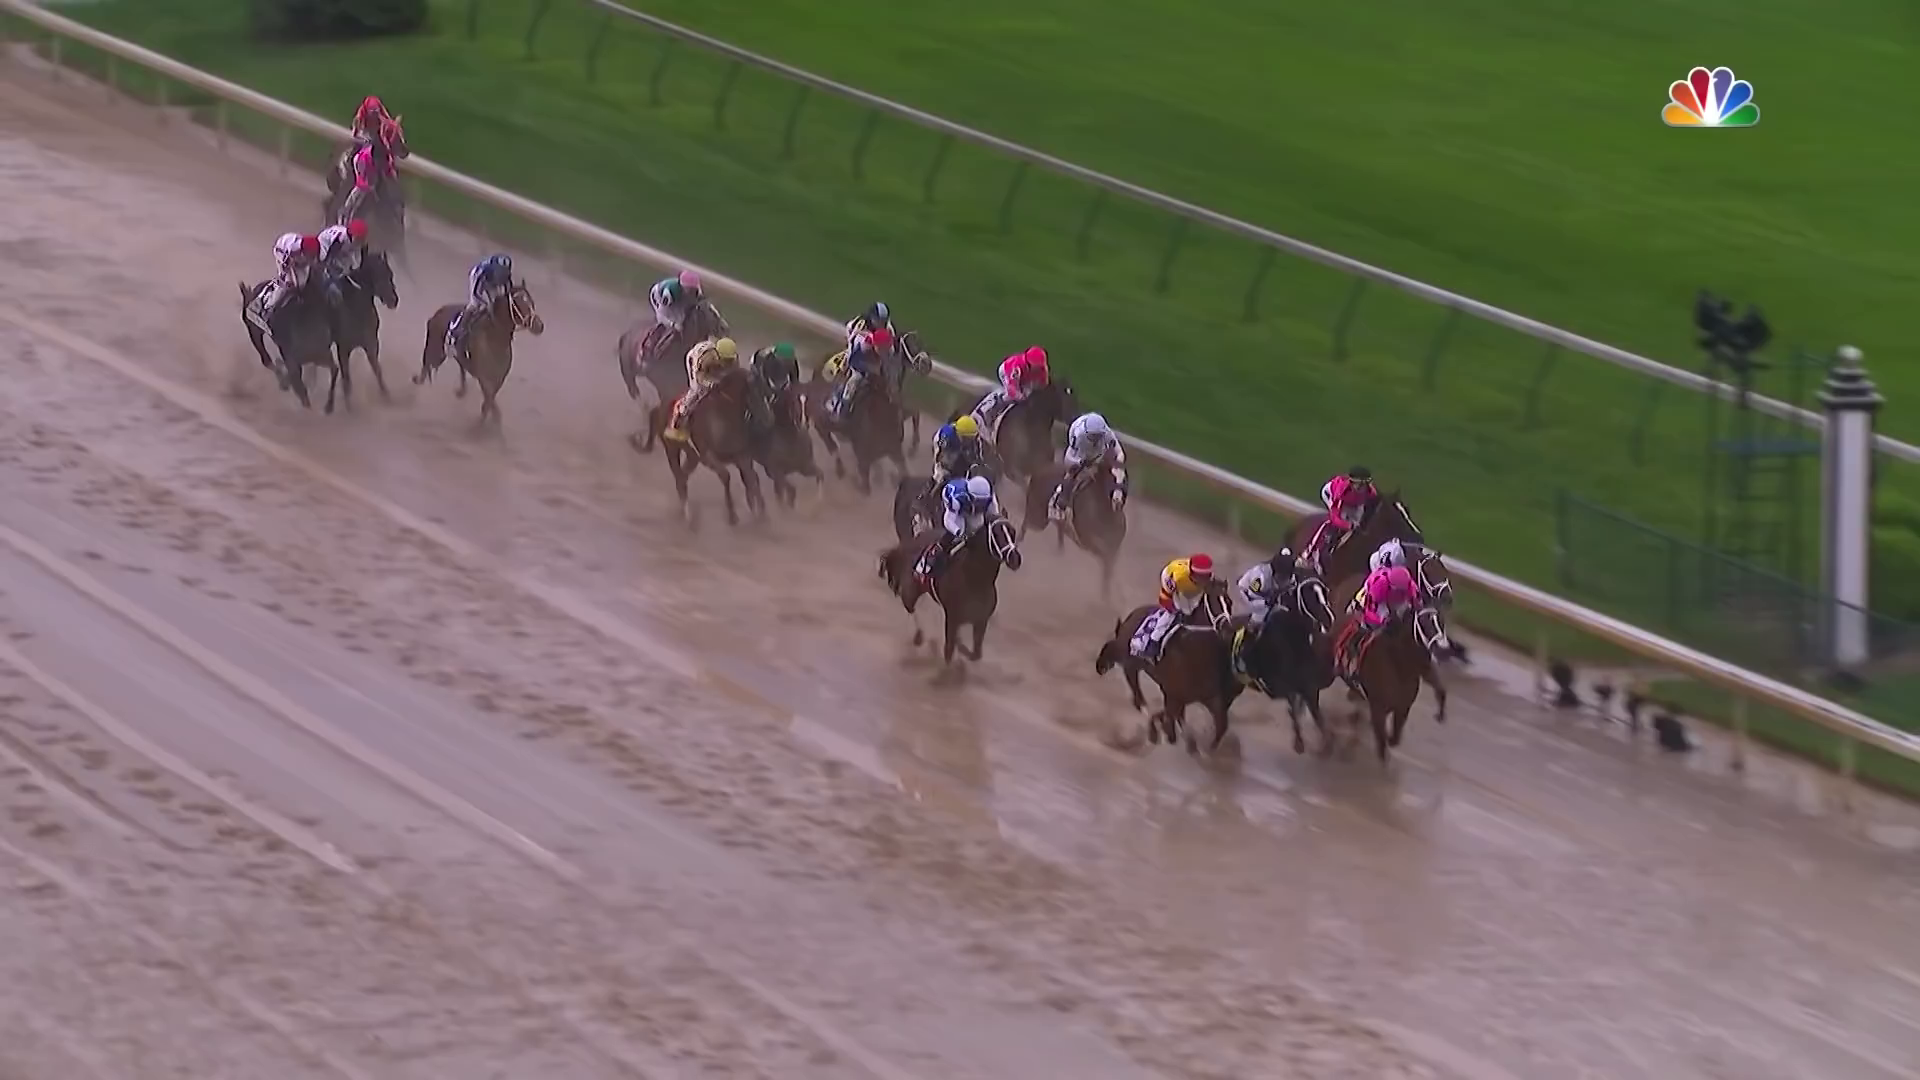jockey: (345, 92, 404, 212), (1244, 549, 1305, 640), (829, 335, 899, 413), (1060, 414, 1124, 495), (938, 476, 994, 564), (1360, 564, 1419, 647), (680, 340, 741, 419), (1320, 464, 1379, 545), (647, 272, 700, 353), (464, 256, 513, 342), (316, 218, 367, 301), (1155, 555, 1217, 620), (268, 235, 316, 314), (996, 345, 1052, 410), (934, 415, 980, 488), (753, 342, 800, 410), (845, 301, 890, 371)
